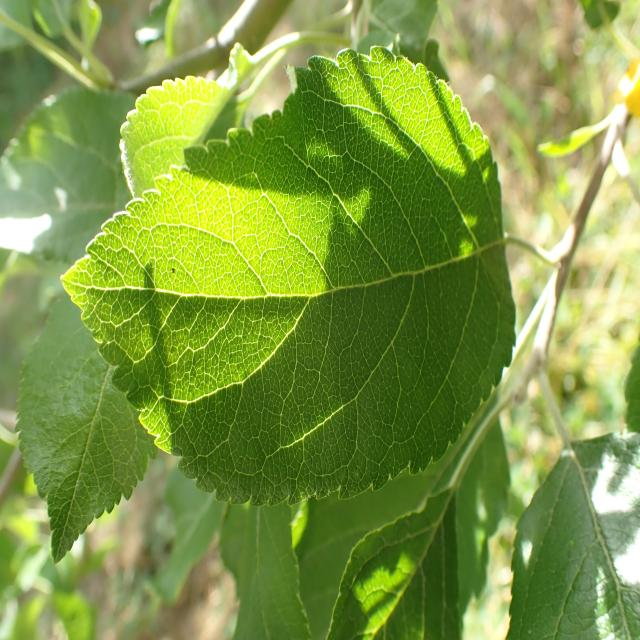healthy: (60, 44, 517, 509), (14, 293, 159, 564), (505, 430, 640, 640), (327, 485, 462, 640), (119, 74, 233, 201), (218, 499, 312, 640)
